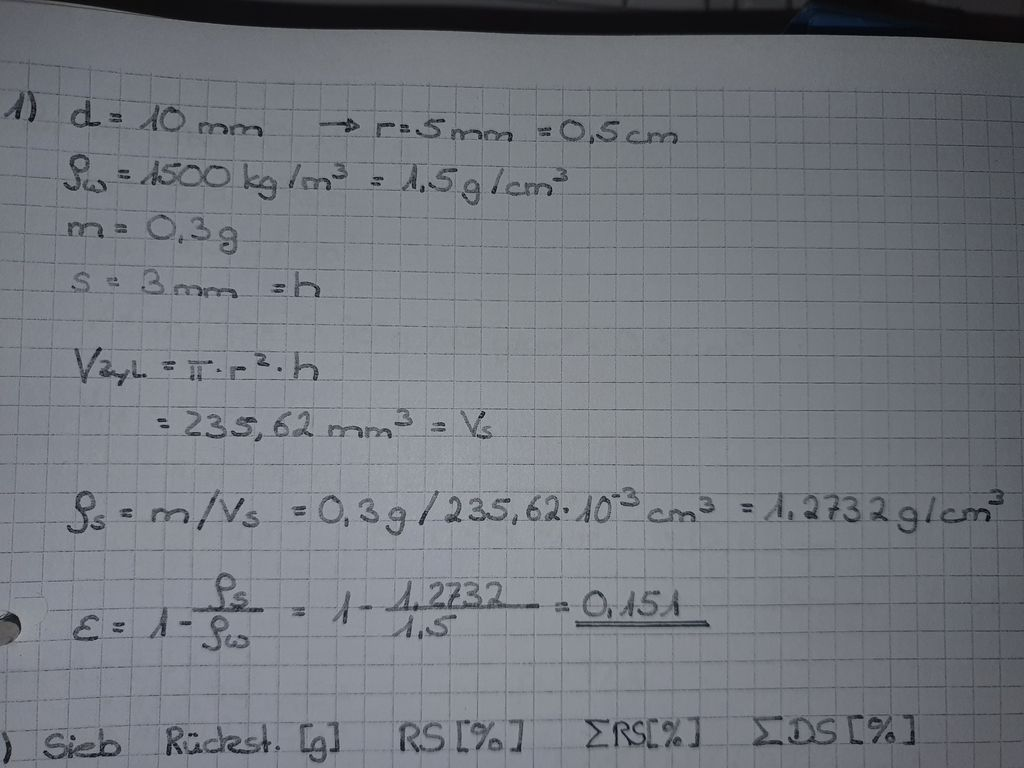equals: (423, 402, 457, 442), (100, 100, 134, 133), (542, 591, 574, 626), (284, 593, 311, 630), (153, 351, 182, 384), (107, 159, 135, 191), (104, 213, 132, 245), (526, 115, 559, 142), (282, 493, 311, 523), (106, 611, 134, 641), (264, 272, 289, 303), (363, 165, 388, 195), (734, 492, 756, 520), (96, 267, 122, 290), (114, 499, 137, 525), (396, 111, 413, 142), (151, 409, 170, 436)
equation: (41, 465, 1021, 539), (49, 558, 727, 657), (54, 148, 583, 202), (137, 389, 519, 449), (59, 326, 330, 390), (366, 102, 691, 153), (48, 258, 342, 307), (59, 86, 278, 150), (53, 204, 257, 254)
fraction: (317, 473, 725, 535), (383, 572, 541, 644), (143, 479, 270, 534), (194, 567, 265, 653)
seperator: (356, 591, 375, 619), (179, 610, 197, 634)
term: (765, 479, 1008, 534), (172, 399, 417, 445), (575, 574, 717, 644), (135, 157, 353, 192), (394, 161, 573, 203), (186, 343, 323, 386), (136, 97, 266, 141), (560, 111, 681, 150), (140, 212, 248, 250), (70, 340, 146, 387), (132, 267, 248, 297), (54, 478, 106, 540), (415, 116, 517, 144), (57, 152, 107, 199), (62, 602, 108, 651), (459, 401, 502, 444), (63, 211, 105, 250), (290, 263, 331, 301), (324, 580, 353, 633), (140, 603, 171, 647), (68, 94, 99, 135), (66, 267, 89, 301), (375, 116, 393, 141)
